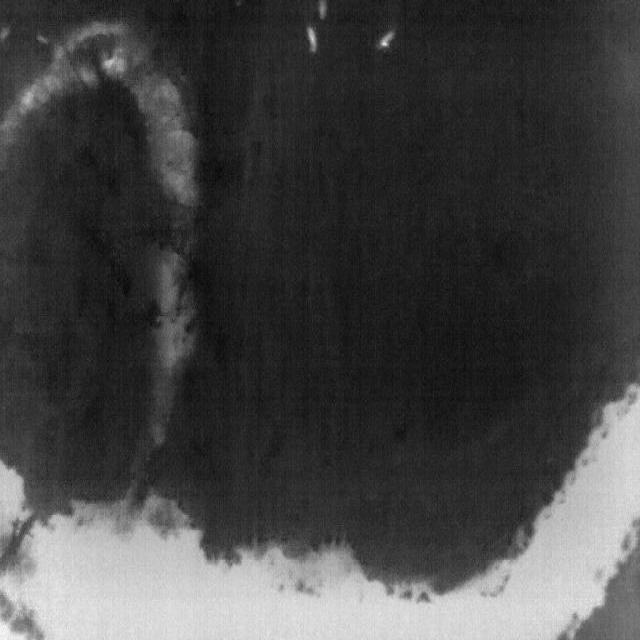deer: (376, 29, 397, 51), (305, 25, 319, 53), (318, 0, 327, 20)
